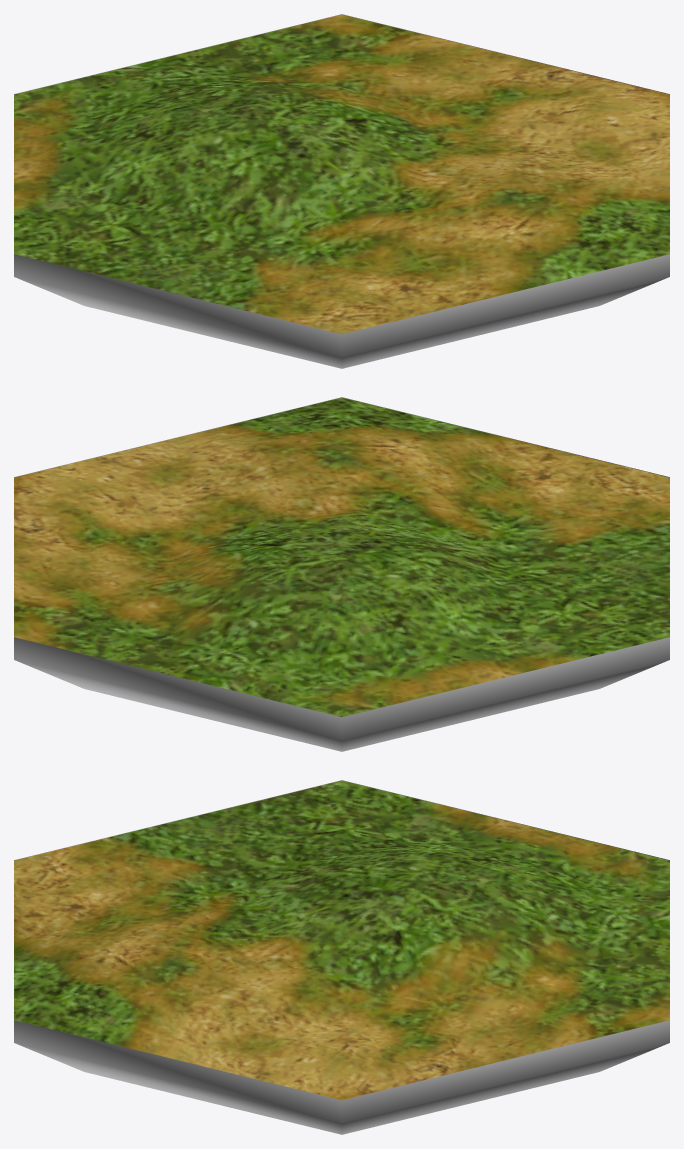
File: tile_grass.FBX
3 renders of one model, top to bottom at view 1: azimuth 30°, elevation 25°; view 2: azimuth 150°, elevation 25°; view 3: azimuth 270°, elevation 25°, orthographic.
Parts seen in each view (by area): view 1: Object002, Object001; view 2: Object002, Object001; view 3: Object002, Object001.
Part boxes in pixels (x1,y1,x2,y2): Object002: [14, 14, 669, 333]; Object001: [14, 14, 669, 368]; Object002: [14, 397, 669, 716]; Object001: [14, 397, 669, 751]; Object002: [14, 780, 669, 1099]; Object001: [14, 780, 669, 1134].
Size of the model in its own units: 180 by 38.99 by 156.
